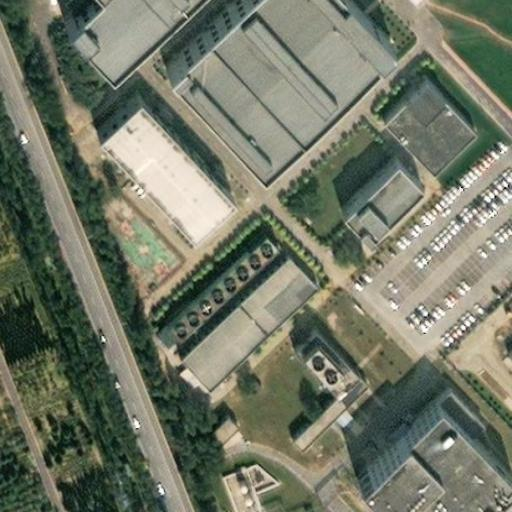building: (154, 0, 379, 152), (171, 230, 313, 368), (348, 388, 503, 512), (93, 98, 228, 236), (161, 208, 274, 318), (375, 66, 467, 159), (328, 143, 410, 221), (284, 353, 362, 428), (290, 308, 353, 373), (289, 389, 354, 450), (215, 446, 272, 500), (206, 391, 232, 417), (299, 487, 315, 512)
